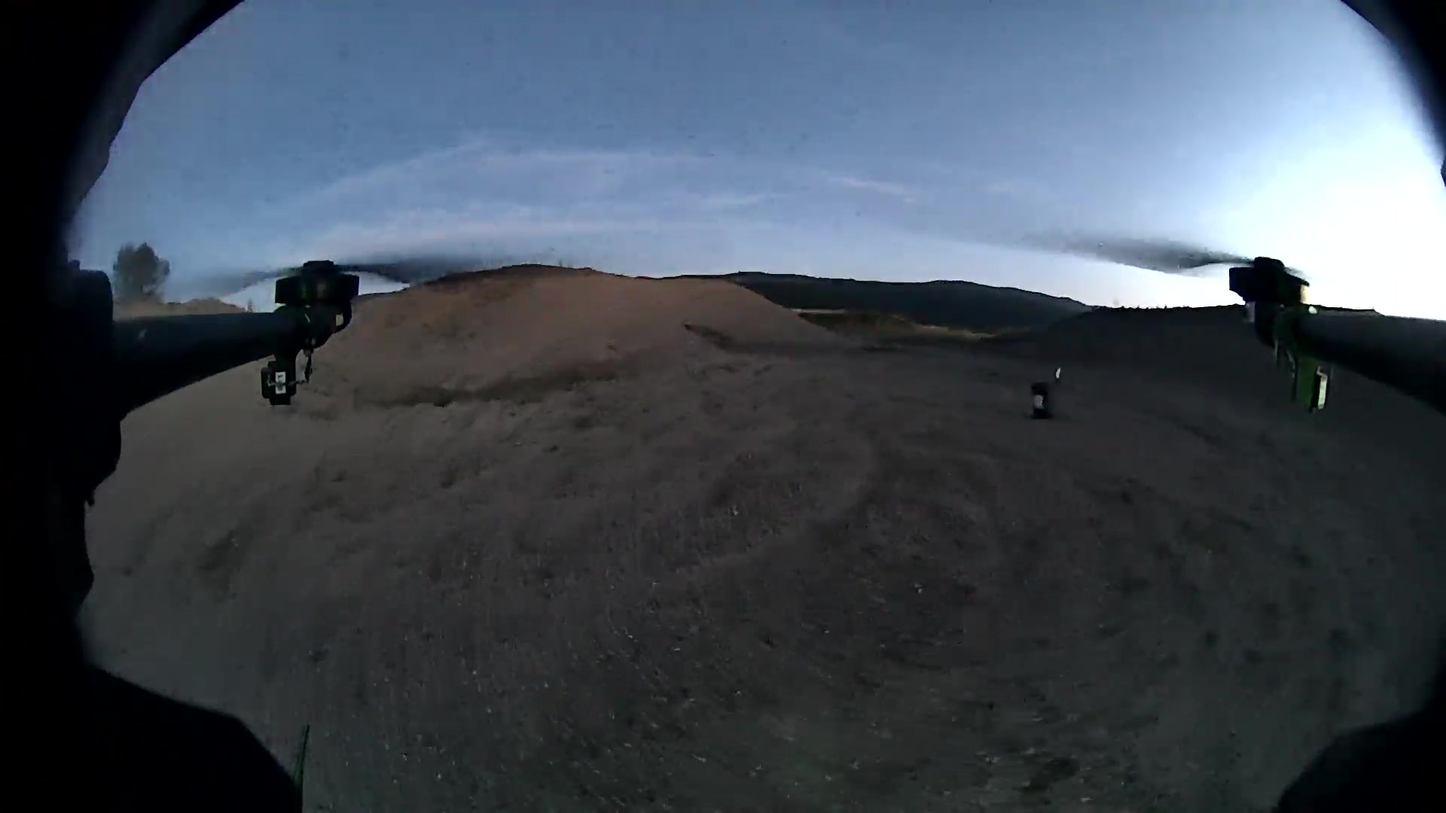Target: (1032, 395, 1045, 408)
